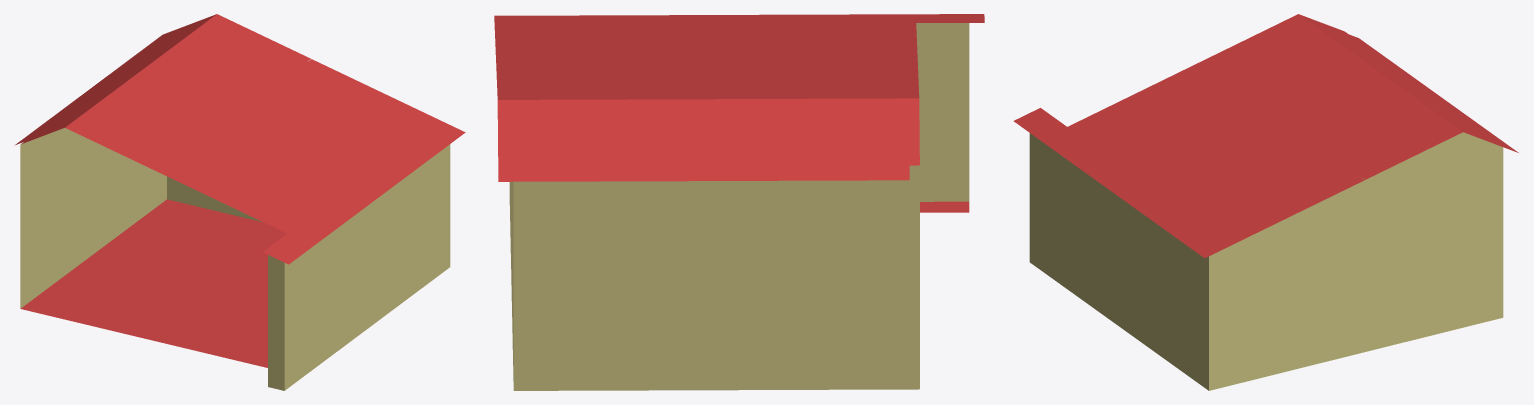
3 views of the same model, side by side, from view 1: azimuth 30°, elevation 25°; view 2: azimuth 150°, elevation 25°; view 3: azimuth 270°, elevation 25° (orthographic). The views are drawn at different scales.
Bounding box in the file's own units: 29 × 31.99 × 14.03.
